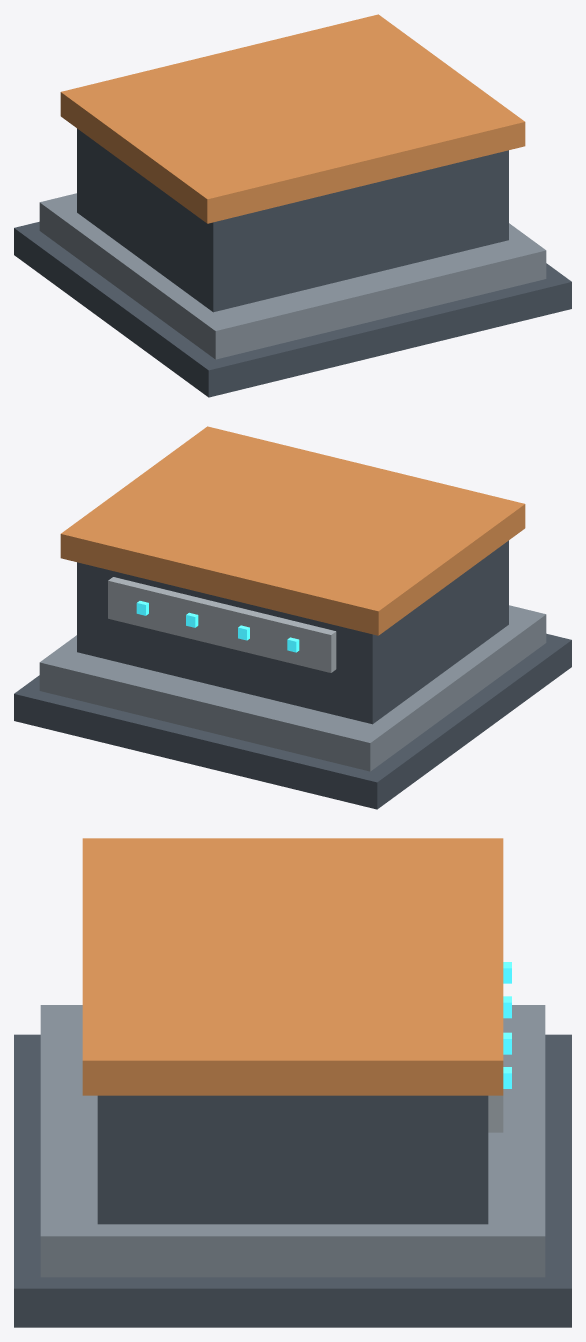
Rendered from bunker.glb.
The picture shows the model from 3 angles, top to bottom: view 1: azimuth 30°, elevation 25°; view 2: azimuth 150°, elevation 25°; view 3: azimuth 270°, elevation 25°; orthographic projection. The views are drawn at different scales.
Parts seen in each view (by area): view 1: detail_008, detail_002, detail_001, detail_000; view 2: detail_008, detail_002, detail_001, detail_000, detail_003; view 3: detail_008, detail_002, detail_001, detail_000.
Boxes of the visible parts, bbox=[...] form: detail_008: bbox=[60, 14, 525, 223]; detail_002: bbox=[77, 128, 508, 312]; detail_001: bbox=[39, 193, 546, 359]; detail_000: bbox=[14, 221, 571, 397]; detail_008: bbox=[60, 426, 525, 635]; detail_002: bbox=[77, 540, 508, 724]; detail_001: bbox=[39, 605, 546, 771]; detail_000: bbox=[14, 633, 571, 809]; detail_003: bbox=[108, 577, 336, 672]; detail_008: bbox=[82, 838, 503, 1095]; detail_002: bbox=[97, 1095, 488, 1224]; detail_001: bbox=[40, 1005, 545, 1277]; detail_000: bbox=[14, 1034, 571, 1327].
Bounding box in the file's own units: 2.8 × 1.29 × 2.6.
